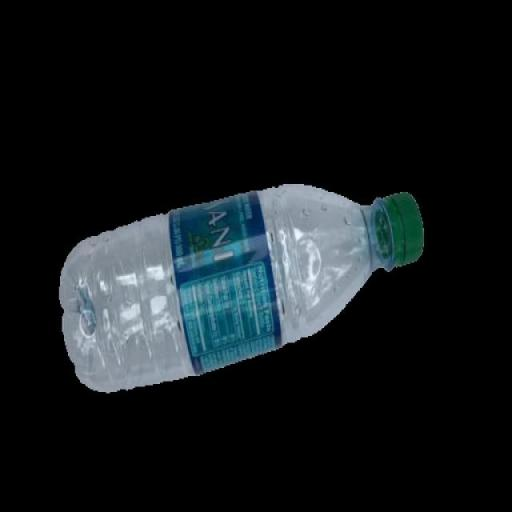plastic: (61, 183, 423, 390)
